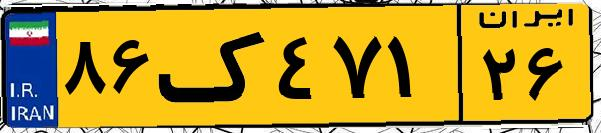1: (385, 28, 445, 110)
2: (475, 38, 525, 113)
4: (270, 28, 330, 110)
6: (525, 38, 570, 115), (110, 28, 158, 98)
7: (330, 28, 385, 110)
8: (57, 26, 110, 100)
ک: (158, 12, 270, 120)
